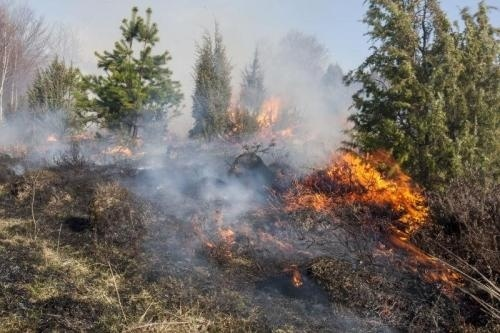fire: (280, 144, 446, 270), (186, 206, 274, 259), (45, 123, 146, 161), (224, 91, 294, 141), (285, 265, 305, 287)
